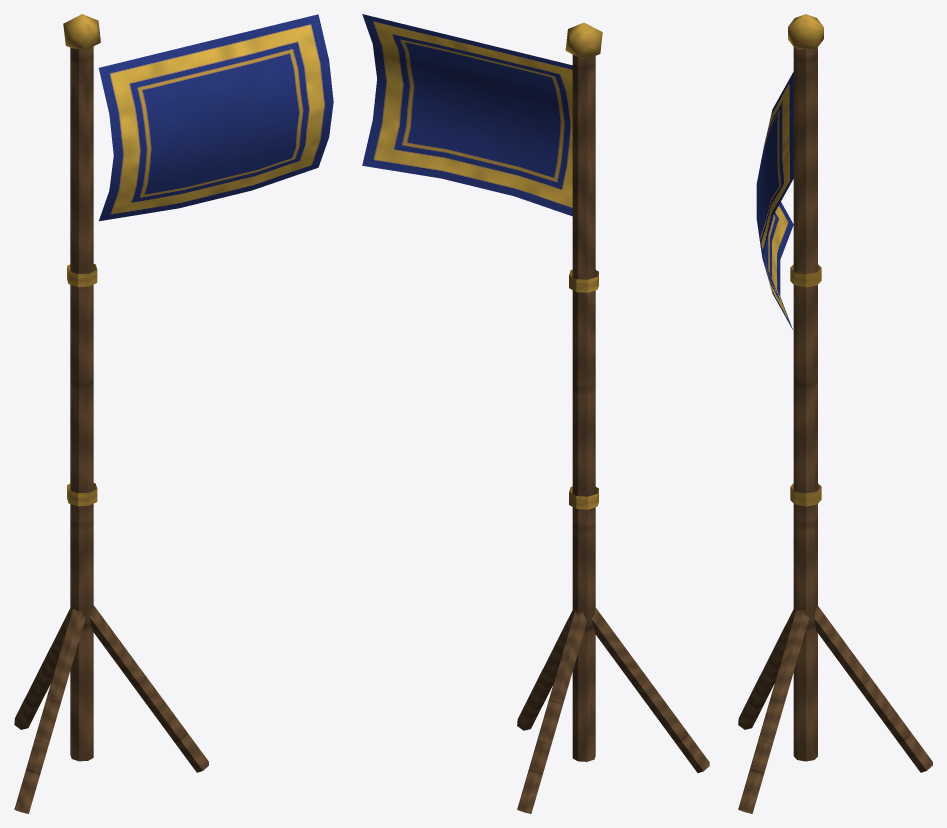
The model's file is prop_vlagstandaard_blue.glb.
The picture shows the model from 3 angles, left to right: view 1: azimuth 30°, elevation 25°; view 2: azimuth 150°, elevation 25°; view 3: azimuth 270°, elevation 25°; orthographic projection.
Visible parts, largest first — view 1: prop_vlagstandaard_blue; view 2: prop_vlagstandaard_blue; view 3: prop_vlagstandaard_blue.
Boxes of the visible parts, box(x1,y1,x2,y2) form: prop_vlagstandaard_blue: box(14, 14, 333, 813); prop_vlagstandaard_blue: box(362, 14, 709, 813); prop_vlagstandaard_blue: box(738, 14, 932, 813).
Size of the model in its own units: 0.6254 by 1.38 by 0.3222.
Materials: 1 (1 with a texture image).
